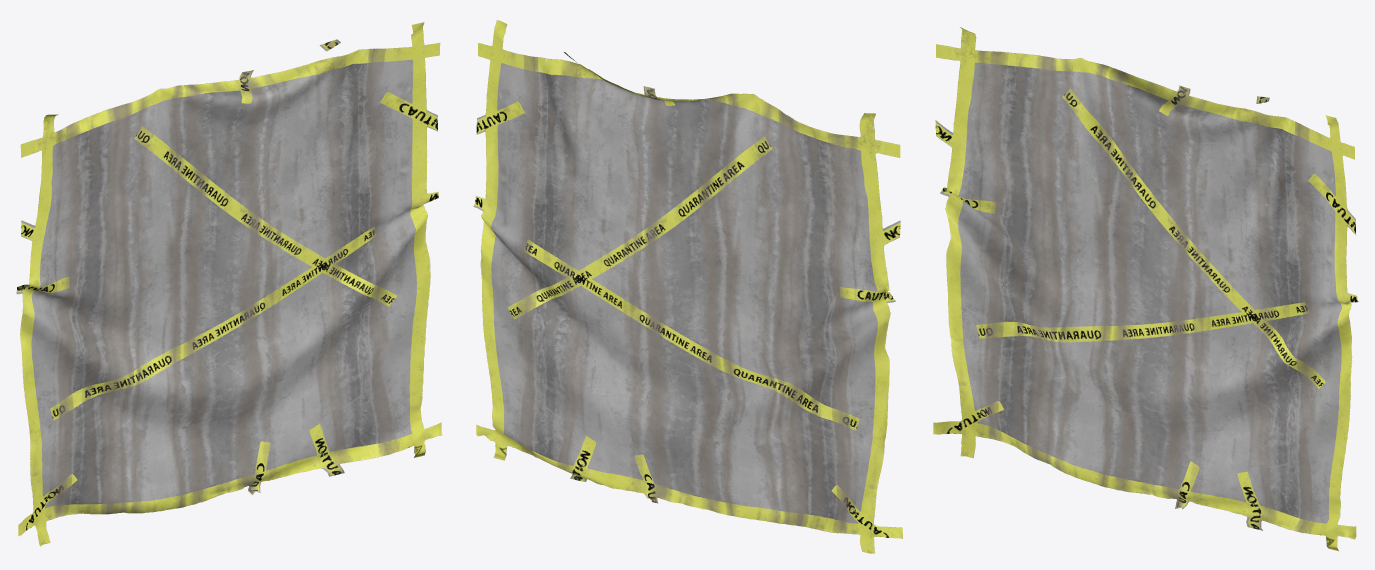
Rendered from SM_Tarp_Wall03.glb.
3 views of the same model, side by side, from view 1: azimuth 30°, elevation 25°; view 2: azimuth 150°, elevation 25°; view 3: azimuth 330°, elevation 25° (orthographic).
Parts seen in each view (by area): view 1: SM_Tarp_Wall03; view 2: SM_Tarp_Wall03; view 3: SM_Tarp_Wall03.
Boxes of the visible parts, x1,y1,x2,y2 form: SM_Tarp_Wall03: (16,22,442,546); SM_Tarp_Wall03: (473,20,902,553); SM_Tarp_Wall03: (933,27,1358,551).
Bounding box in the file's own units: 2.58 × 2.57 × 0.1582.
1 material, 1 textured.
